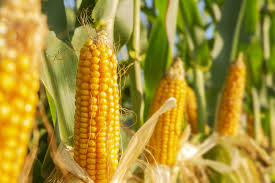milho: (46, 30, 255, 172)
